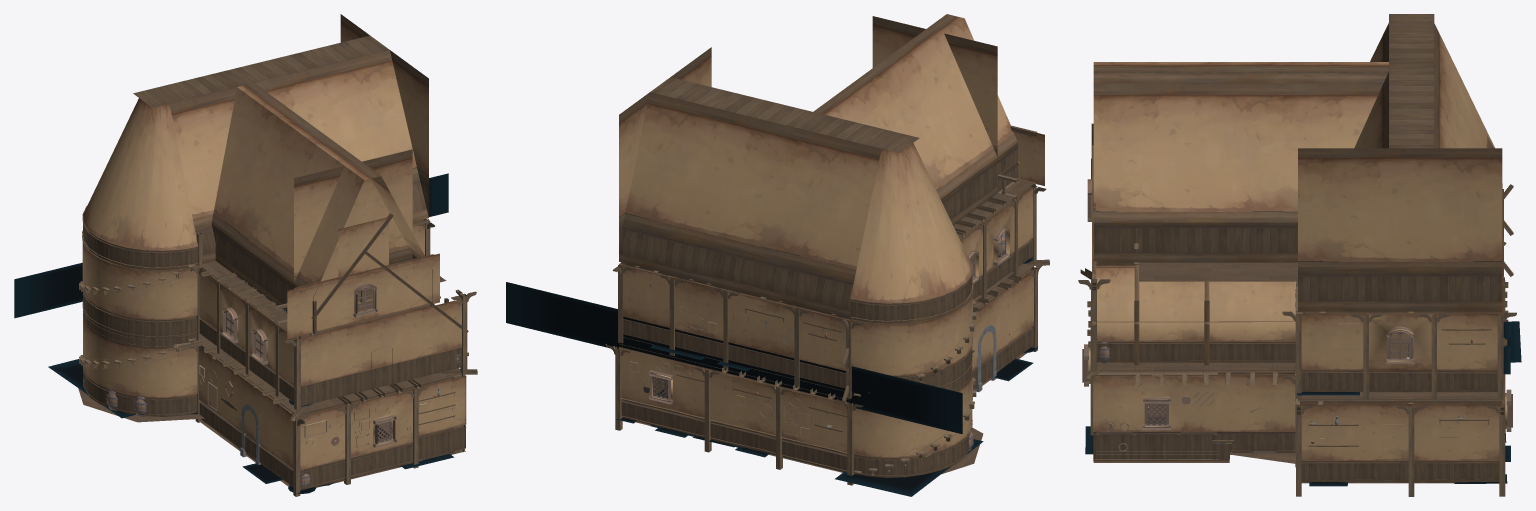
File: IndoorScene_Md_AngelShare.fbx
The picture shows the model from 3 angles, left to right: view 1: azimuth 30°, elevation 25°; view 2: azimuth 150°, elevation 25°; view 3: azimuth 270°, elevation 25°; orthographic projection. The views are drawn at different scales.
Parts seen in each view (by area): view 1: Indoor_MdBuild_AngelShare01_Main, Indoor_MDBuild_Ao04 (59), Indoor_MdProps_AngelShare01_Pillar02_Vo (×3), Indoor_MdProps_AngelShare01_Pillar01_Vo (×2), Indoor_MDBuild_Ao04 (31), Indoor_MdBuild_AngelShare01_Stair02, Area_MdBuild_Window62_Vo; view 2: Indoor_MdBuild_AngelShare01_Main, Indoor_MDBuild_Ao04 (59), Indoor_MDBuild_Ao04 (31), Indoor_MdProps_AngelShare01_Pillar02_Vo (×2), Indoor_MdProps_AngelShare01_Pillar01_Vo (×2), Area_MdBuild_Window62_Vo, Indoor_MdBuild_AngelShare01_Stair02; view 3: Indoor_MdBuild_AngelShare01_Main, Indoor_MdProps_AngelShare01_Pillar02_Vo (×5), Indoor_MdProps_AngelShare01_Pillar01_Vo (×3), Indoor_MdProps_AngelShare01_Chest03_Vo, Area_MdBuild_Window62_Vo, Area_MdBuild_Window58_Vo.
Boxes of the visible parts, <box> form: Indoor_MdBuild_AngelShare01_Main: <box>78,14,477,490</box>; Indoor_MDBuild_Ao04 (59): <box>14,173,448,318</box>; Indoor_MdProps_AngelShare01_Pillar02_Vo (×3): <box>285,289,476,496</box>; Indoor_MdProps_AngelShare01_Pillar01_Vo (×2): <box>335,386,427,484</box>; Indoor_MDBuild_Ao04 (31): <box>48,359,135,418</box>; Indoor_MdBuild_AngelShare01_Stair02: <box>79,338,197,368</box>; Area_MdBuild_Window62_Vo: <box>373,415,396,447</box>; Indoor_MdBuild_AngelShare01_Main: <box>619,14,1049,477</box>; Indoor_MDBuild_Ao04 (59): <box>506,282,962,434</box>; Indoor_MDBuild_Ao04 (31): <box>835,439,983,496</box>; Indoor_MdProps_AngelShare01_Pillar02_Vo (×2): <box>605,344,863,485</box>; Indoor_MdProps_AngelShare01_Pillar01_Vo (×2): <box>694,366,791,469</box>; Area_MdBuild_Window62_Vo: <box>648,370,672,404</box>; Indoor_MdBuild_AngelShare01_Stair02: <box>853,377,976,475</box>; Indoor_MdBuild_AngelShare01_Main: <box>1080,14,1513,483</box>; Indoor_MdProps_AngelShare01_Pillar02_Vo (×5): <box>1091,273,1516,496</box>; Indoor_MdProps_AngelShare01_Pillar01_Vo (×3): <box>1349,313,1450,496</box>; Indoor_MdProps_AngelShare01_Chest03_Vo: <box>1095,372,1217,459</box>; Area_MdBuild_Window62_Vo: <box>1143,397,1170,429</box>; Area_MdBuild_Window58_Vo: <box>1386,327,1414,363</box>.
Bounding box in the file's own units: 25.61 × 16.87 × 19.5.
Materials: 15 (15 with a texture image).
